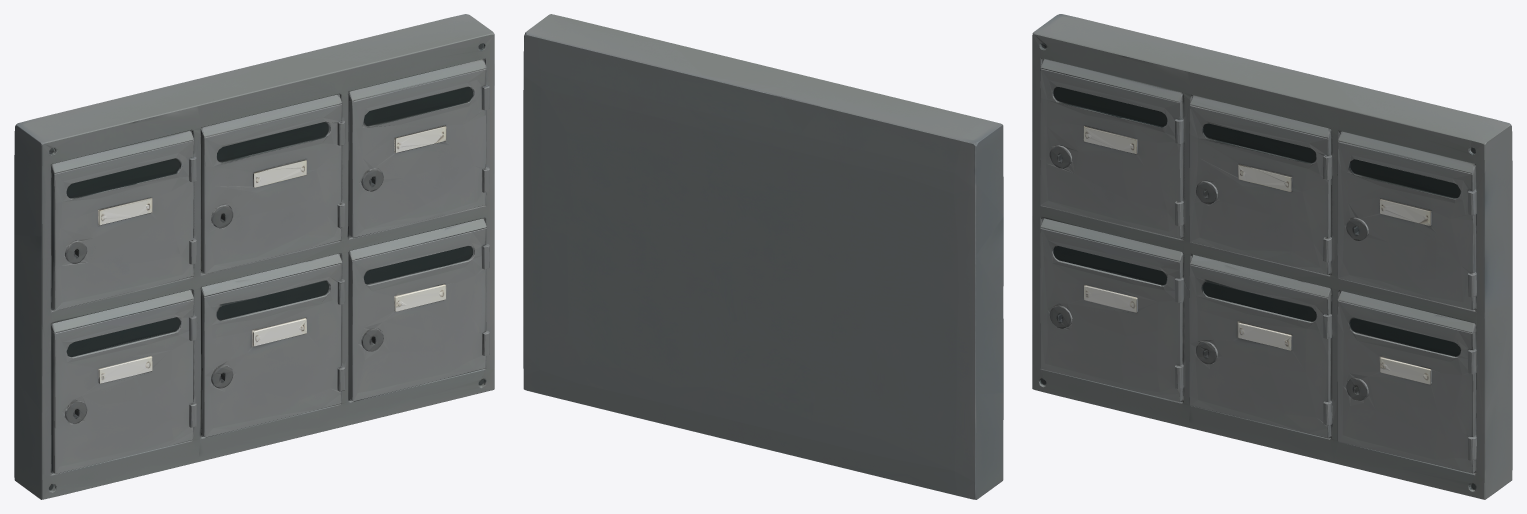
Rendered from mailbox_cluster.glb.
3 views of the same model, side by side, from view 1: azimuth 30°, elevation 25°; view 2: azimuth 150°, elevation 25°; view 3: azimuth 330°, elevation 25° (orthographic).
Parts seen in each view (by area): view 1: mailbox_cluster; view 2: mailbox_cluster; view 3: mailbox_cluster.
Part boxes in pixels (<box>): mailbox_cluster: <box>14,14,494,499</box>; mailbox_cluster: <box>523,14,1003,499</box>; mailbox_cluster: <box>1032,14,1512,499</box>.
Bounding box in the file's own units: 0.7966 × 0.6 × 0.0978.
Materials: 1 (1 with a texture image).
